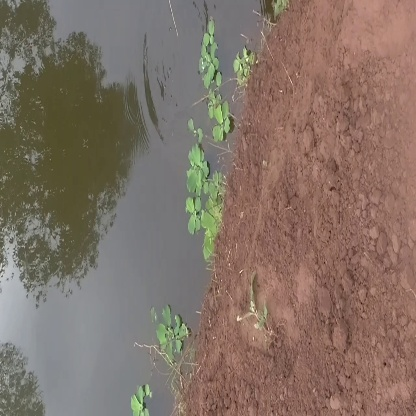leaf: (186, 139, 215, 198)
